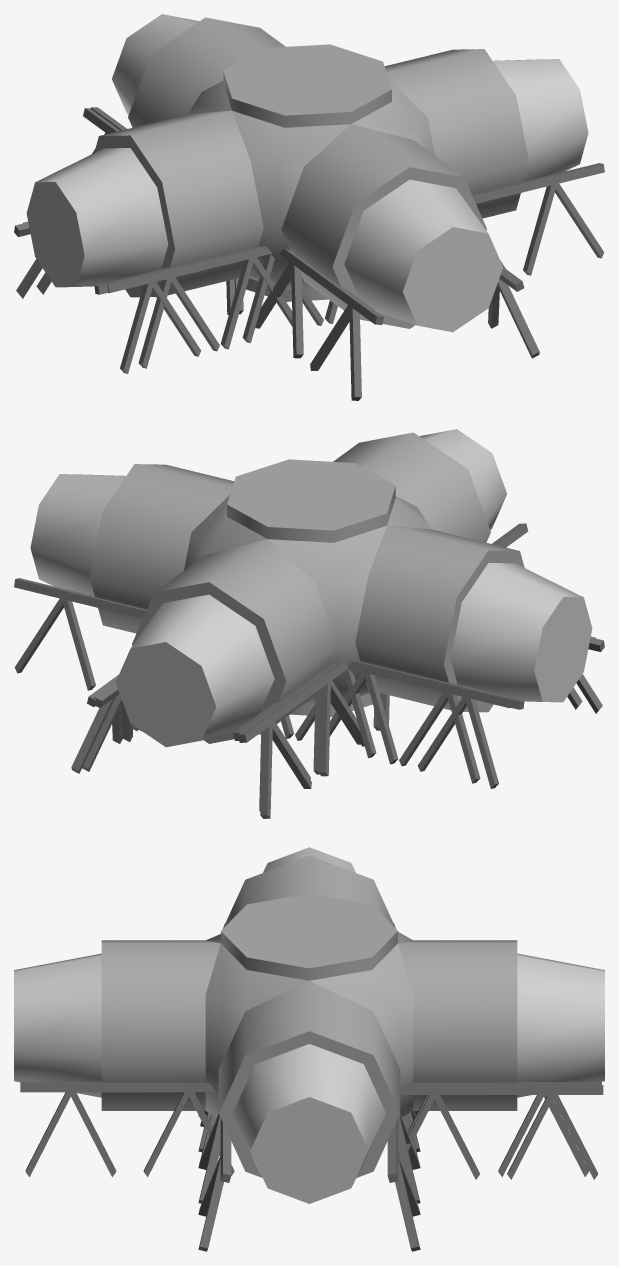
The model's file is TunnelIntersection.glb.
The picture shows the model from 3 angles, top to bottom: view 1: azimuth 30°, elevation 25°; view 2: azimuth 150°, elevation 25°; view 3: azimuth 270°, elevation 25°; orthographic projection.
Visible parts, largest first — view 1: Intersection.003, Interseccion2.003, Interseccion1.003, IntersectionT2.006, IntersectionT2.005; view 2: Intersection.003, Interseccion2.003, IntersectionT2.005, IntersectionT2.006, Interseccion1.003; view 3: Intersection.003, Interseccion1.003, Interseccion2.003, IntersectionT2.005.
Boxes of the visible parts, bbox=[...] form: Intersection.003: bbox=[26, 14, 588, 332]; Interseccion2.003: bbox=[16, 163, 604, 373]; Interseccion1.003: bbox=[90, 107, 539, 400]; IntersectionT2.006: bbox=[14, 222, 323, 368]; IntersectionT2.005: bbox=[83, 108, 234, 314]; Intersection.003: bbox=[30, 429, 592, 747]; Interseccion2.003: bbox=[14, 578, 602, 788]; IntersectionT2.005: bbox=[71, 662, 389, 818]; IntersectionT2.006: bbox=[295, 637, 604, 783]; Interseccion1.003: bbox=[82, 523, 528, 811]; Intersection.003: bbox=[14, 847, 604, 1203]; Interseccion1.003: bbox=[20, 1082, 601, 1177]; Interseccion2.003: bbox=[198, 1111, 420, 1251]; IntersectionT2.005: bbox=[398, 1085, 603, 1179].
Bounding box in the file's own units: 2.01 × 0.7546 × 2.
1 material, 1 textured.
